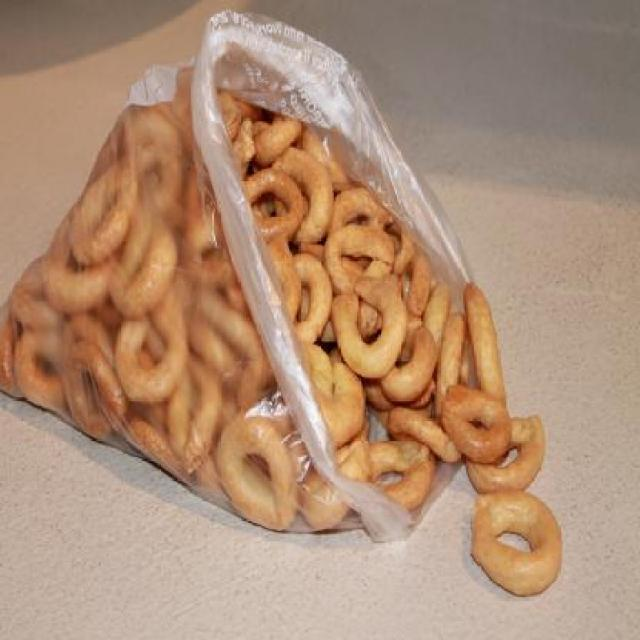Taralli: (244, 125, 566, 598)
